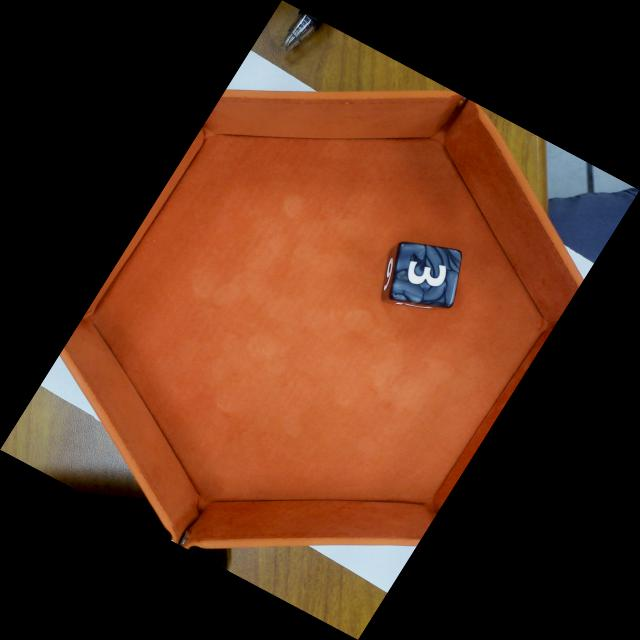dice: (392, 244, 461, 304)
